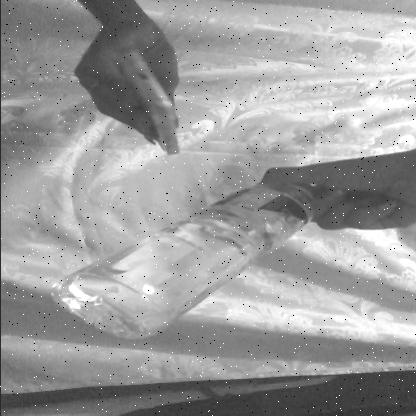Plastic Bottle: (13, 160, 367, 357)
